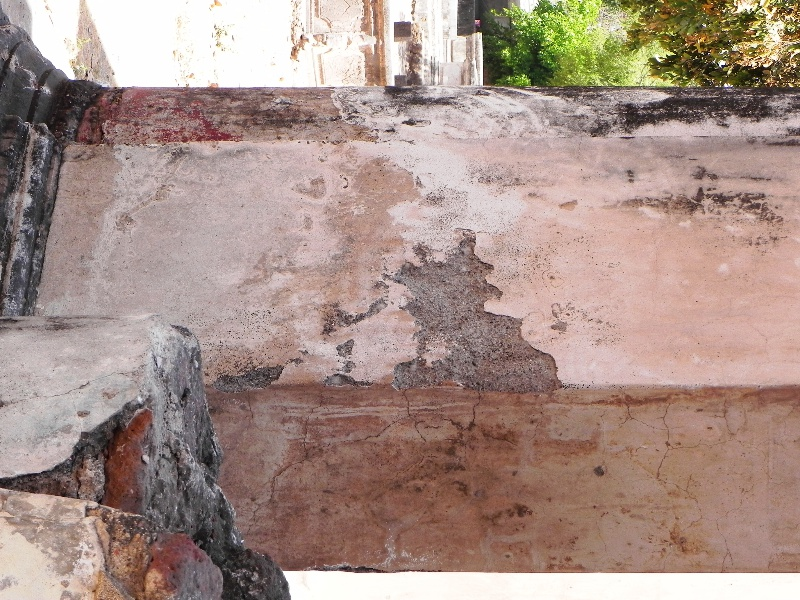Spalling: (388, 231, 569, 401), (322, 338, 371, 391), (213, 362, 293, 388)
